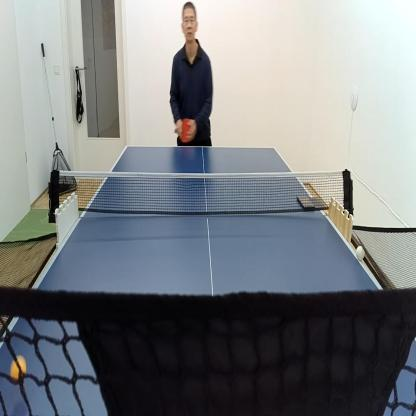Ball: (10, 357, 26, 380), (355, 246, 366, 260)
